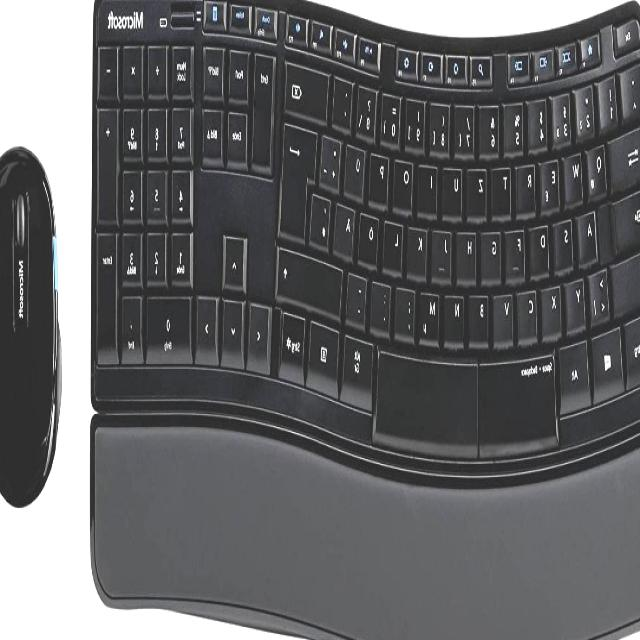0: (383, 86, 404, 143)
1: (601, 67, 621, 127)
2: (577, 77, 597, 137)
3: (555, 86, 574, 143)
4: (530, 91, 550, 145)
5: (507, 95, 527, 151)
6: (482, 99, 502, 153)
7: (457, 98, 477, 154)
8: (432, 97, 453, 153)
9: (408, 91, 428, 148)
a: (580, 204, 600, 261)
accent: (335, 70, 355, 126)
ae: (336, 197, 358, 255)
alt-left: (560, 333, 594, 411)
altgr-right: (343, 330, 377, 406)
b: (471, 287, 491, 341)
c: (519, 283, 540, 337)
caret: (622, 59, 640, 117)
comma: (398, 280, 418, 337)
d: (532, 218, 552, 272)
del: (287, 55, 332, 118)
e: (543, 151, 562, 208)
enter: (282, 116, 320, 238)
f: (508, 222, 528, 276)
g: (483, 223, 503, 277)
h: (459, 224, 479, 278)
hash: (312, 187, 334, 247)
i: (421, 157, 441, 211)
j: (434, 221, 454, 277)
k: (410, 219, 430, 275)
keyboard: (88, 0, 640, 465)
l: (385, 214, 405, 268)
less: (592, 261, 612, 321)
m: (421, 285, 443, 341)
minus: (349, 267, 369, 321)
n: (446, 288, 467, 340)
o: (396, 153, 416, 207)
oe: (361, 208, 381, 262)
p: (372, 147, 392, 201)
plus: (322, 129, 344, 187)
point: (373, 275, 394, 329)
q: (589, 137, 609, 193)
r: (519, 156, 538, 210)
s: (557, 211, 576, 267)
shift-left: (613, 244, 640, 314)
shift-lock: (615, 186, 640, 250)
shift-right: (279, 244, 345, 312)
space: (378, 344, 479, 451), (480, 353, 558, 451)
ss: (359, 79, 380, 136)
strg-left: (626, 306, 640, 384)
strg-right: (280, 305, 308, 379)
t: (494, 160, 513, 211)
tab: (611, 120, 640, 189)
u: (445, 160, 465, 214)
ue: (347, 137, 369, 197)
v: (496, 286, 516, 340)
w: (567, 144, 585, 200)
x: (544, 278, 564, 332)
y: (568, 271, 588, 325)
z: (470, 161, 490, 215)
